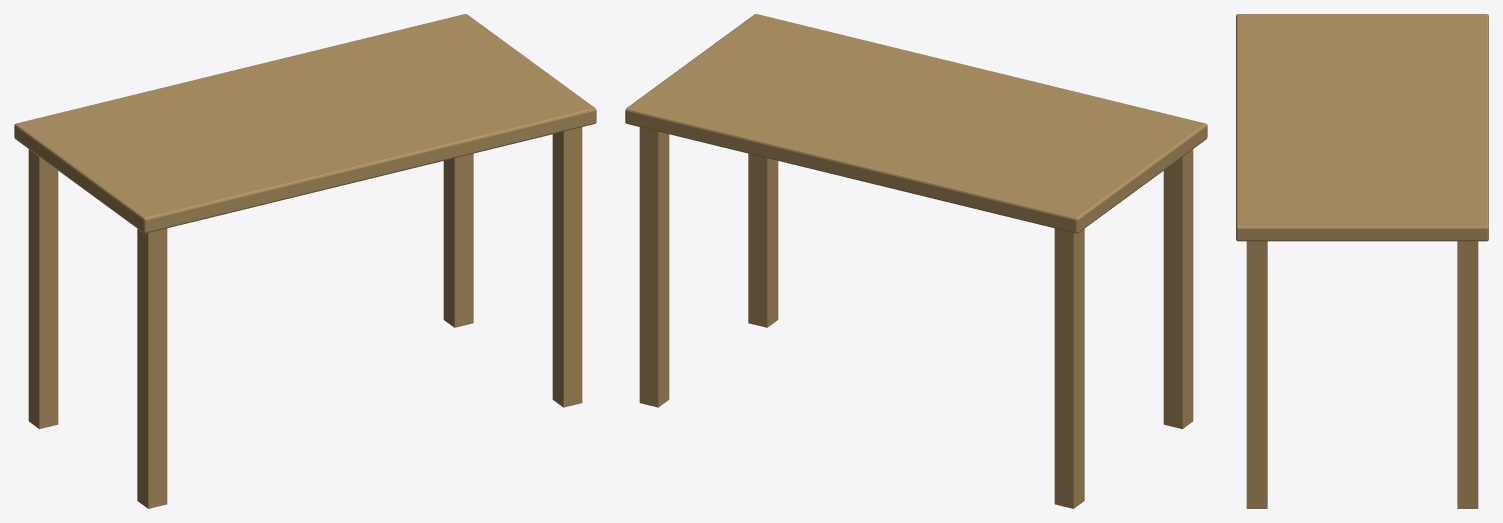
The model's file is desk.glb.
3 renders of one model, left to right at view 1: azimuth 30°, elevation 25°; view 2: azimuth 150°, elevation 25°; view 3: azimuth 270°, elevation 25°, orthographic. The views are drawn at different scales.
Parts seen in each view (by area): view 1: Desk-col; view 2: Desk-col; view 3: Desk-col.
Part boxes in pixels (<box>): Desk-col: <box>14,14,596,508</box>; Desk-col: <box>625,14,1207,508</box>; Desk-col: <box>1236,14,1488,508</box>.
Bounding box in the file's own units: 1.2 × 0.75 × 0.6.
